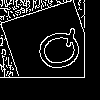Q: (25, 25, 87, 77)
